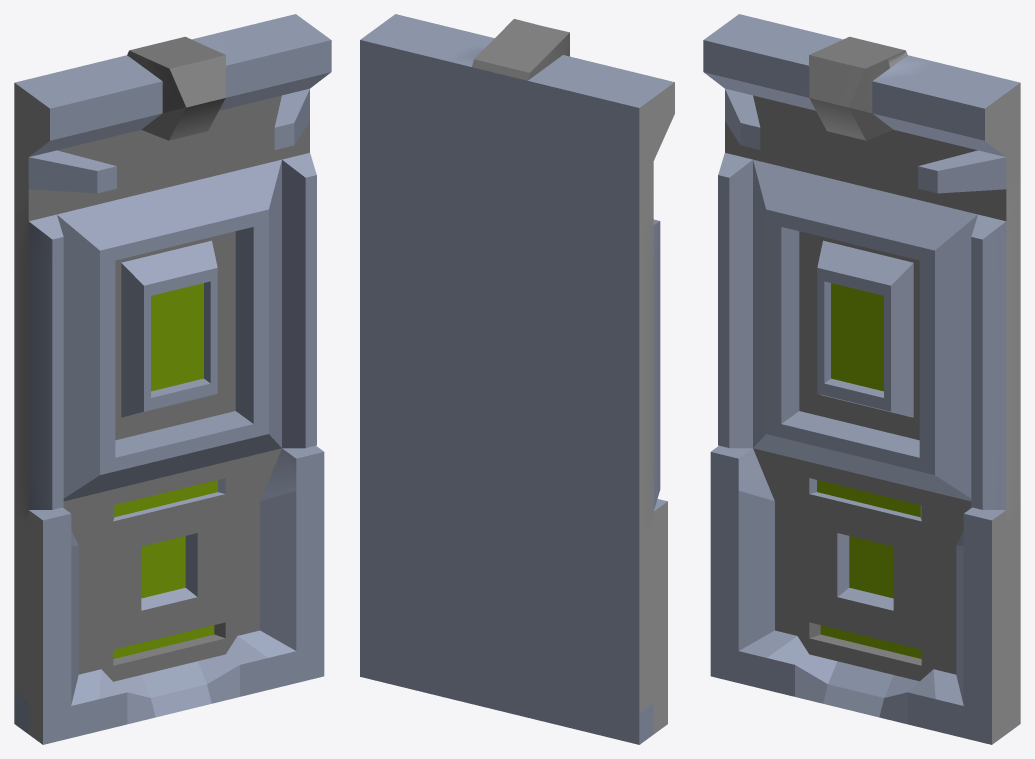
Rendered from Wall.fbx.
3 views of the same model, side by side, from view 1: azimuth 30°, elevation 25°; view 2: azimuth 150°, elevation 25°; view 3: azimuth 330°, elevation 25° (orthographic).
Parts seen in each view (by area): view 1: pCube1; view 2: pCube1; view 3: pCube1.
Boxes of the visible parts, x1,y1,x2,y2 form: pCube1: (14,14,331,744); pCube1: (360,14,674,744); pCube1: (703,14,1020,744).
Bounding box in the file's own units: 18 × 40.29 × 5.69.
